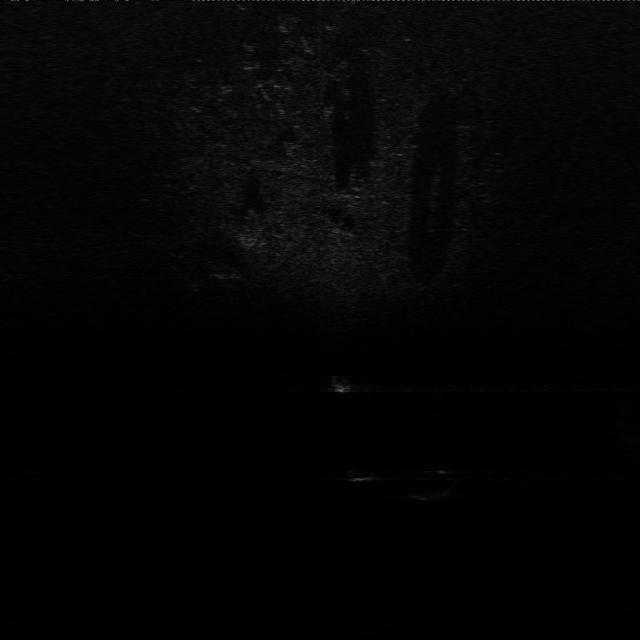cube: (342, 456, 383, 483)
square cage: (326, 369, 376, 397)
tyre: (407, 464, 462, 505)
